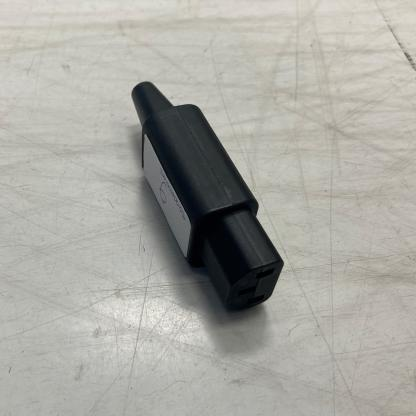SP0000006: (60, 44, 340, 362)
